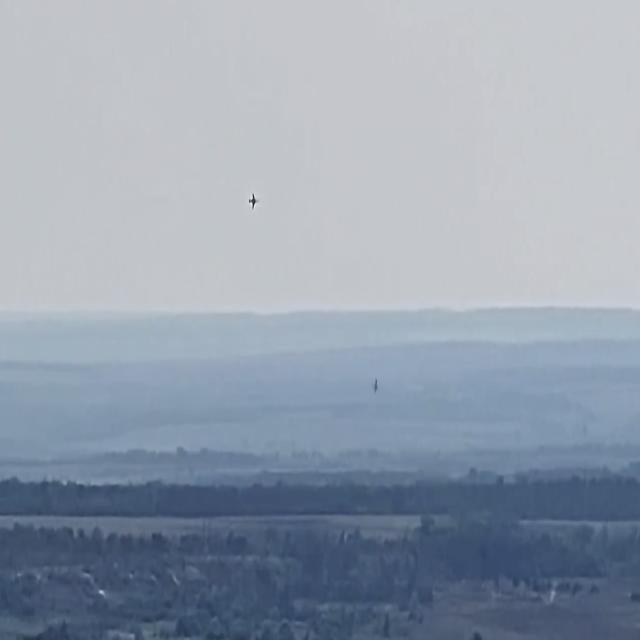vehicle: (248, 191, 260, 210), (370, 376, 381, 395)
